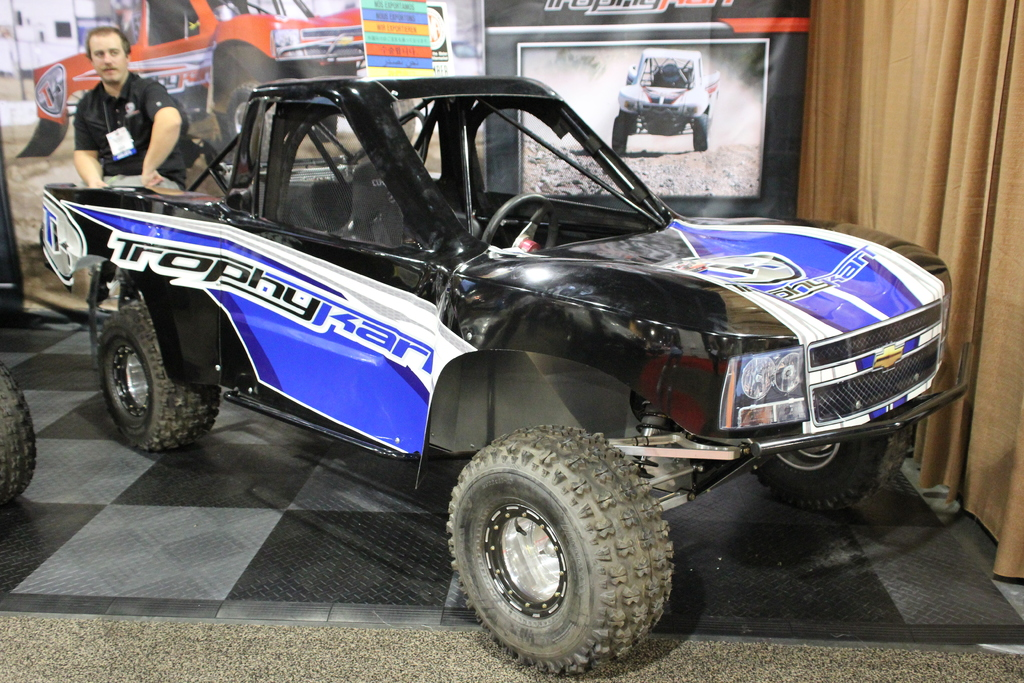Person: (70, 23, 195, 192)
